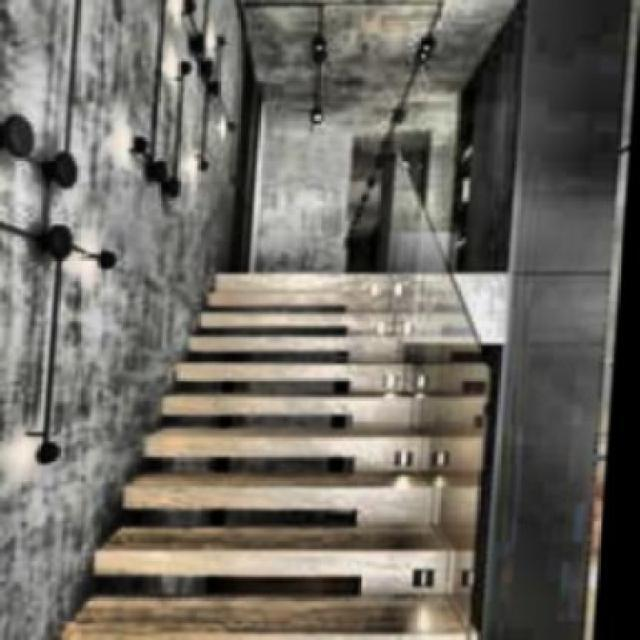stair: (88, 247, 536, 638)
